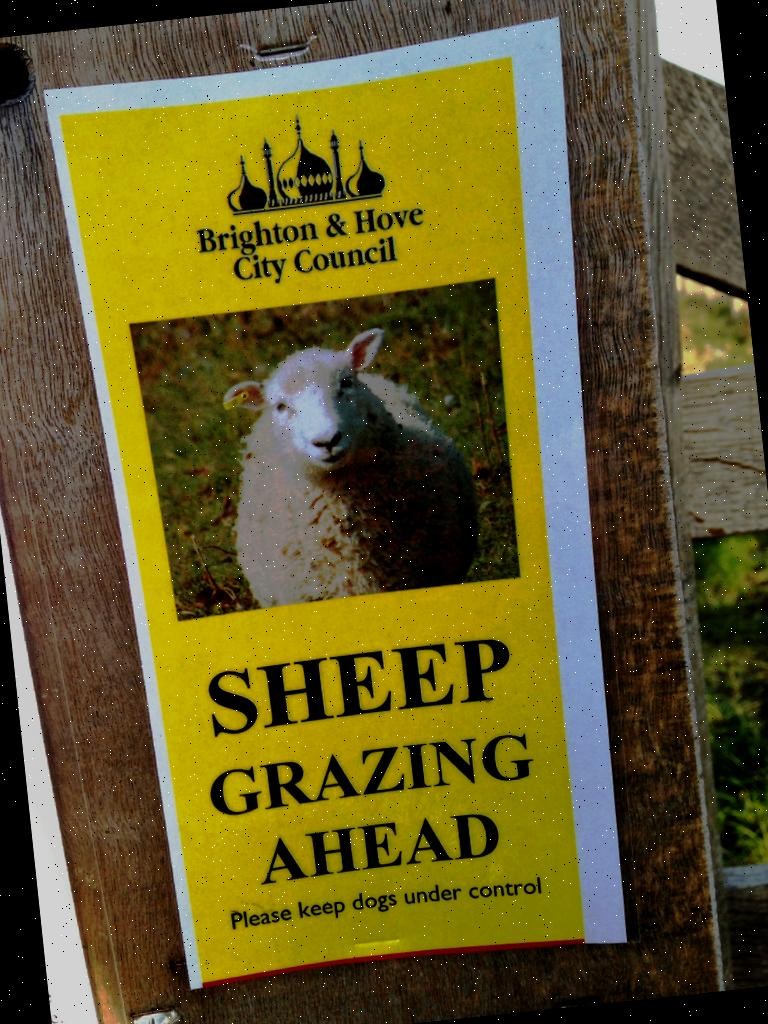Sheep: (212, 318, 487, 610)
